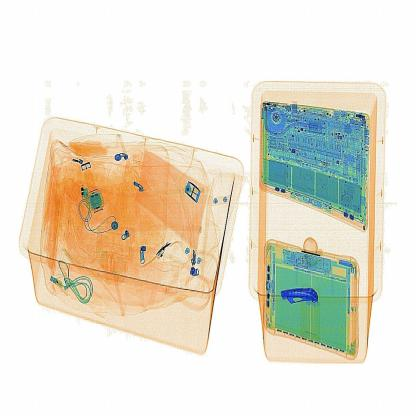knife: (277, 282, 321, 311)
